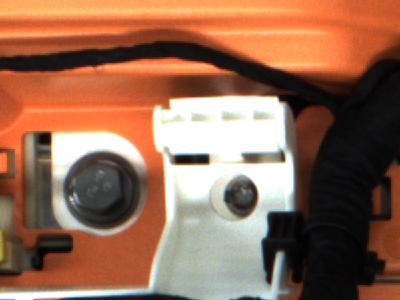nut_b: (58, 149, 144, 234)
